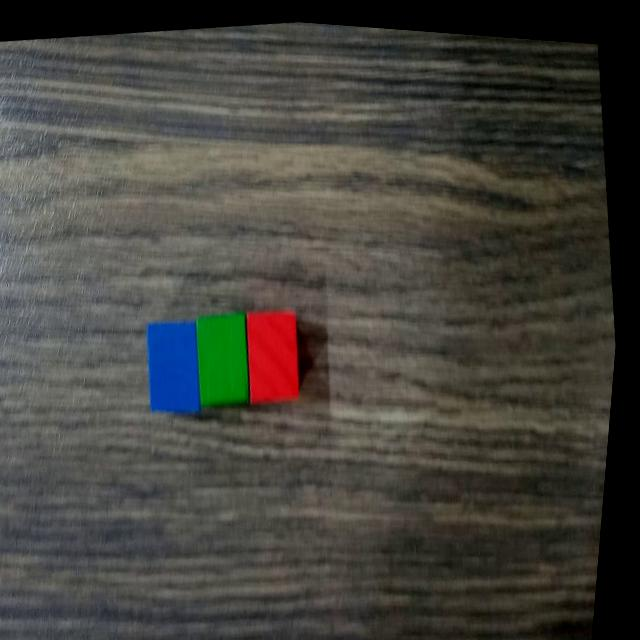cube: (140, 298, 215, 426), (192, 297, 264, 415), (242, 296, 315, 406)
